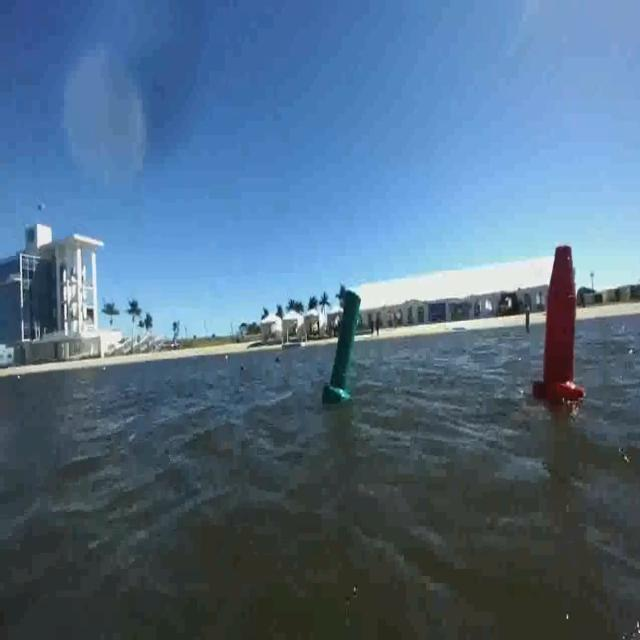green-column-buoy: (324, 289, 362, 403)
red-column-buoy: (534, 240, 584, 406)
